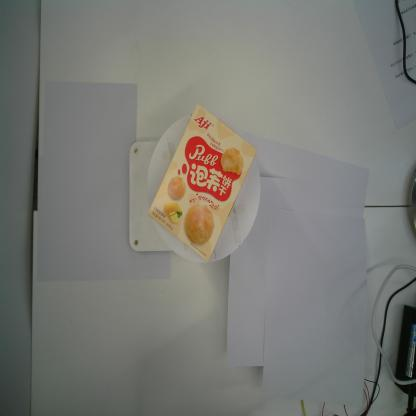Dessert: (147, 103, 258, 263)
